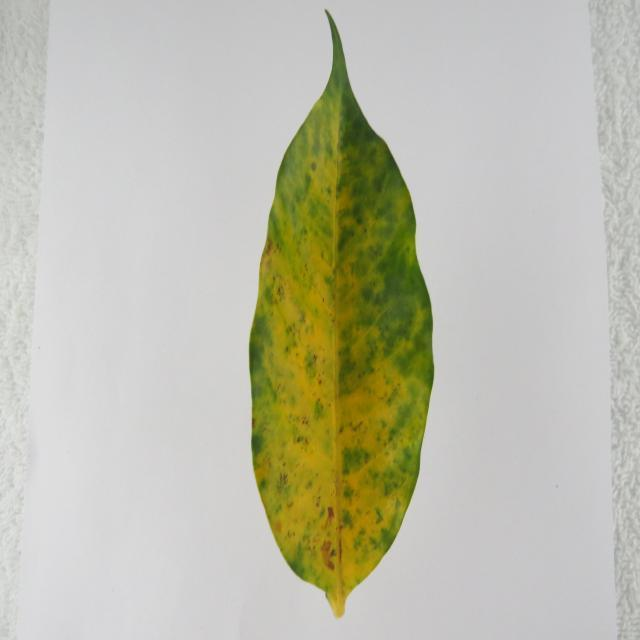DeficienciaNutricional-Nitrogeno: (249, 12, 434, 617)
